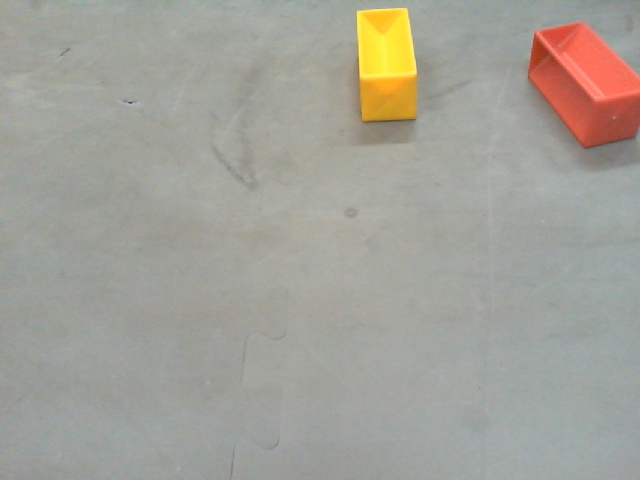RedSample: (524, 22, 640, 151)
YellowSample: (354, 5, 417, 124)
